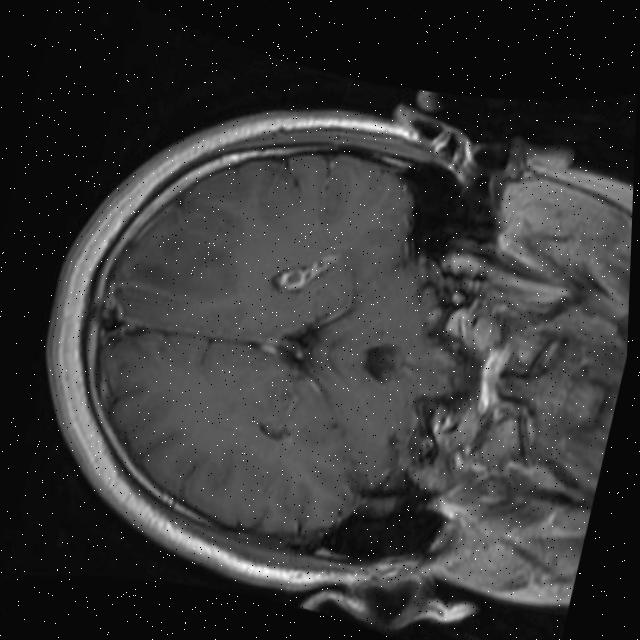Glioma: (265, 239, 346, 304)
